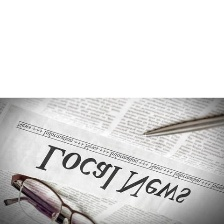news_paper: (0, 97, 224, 223)
